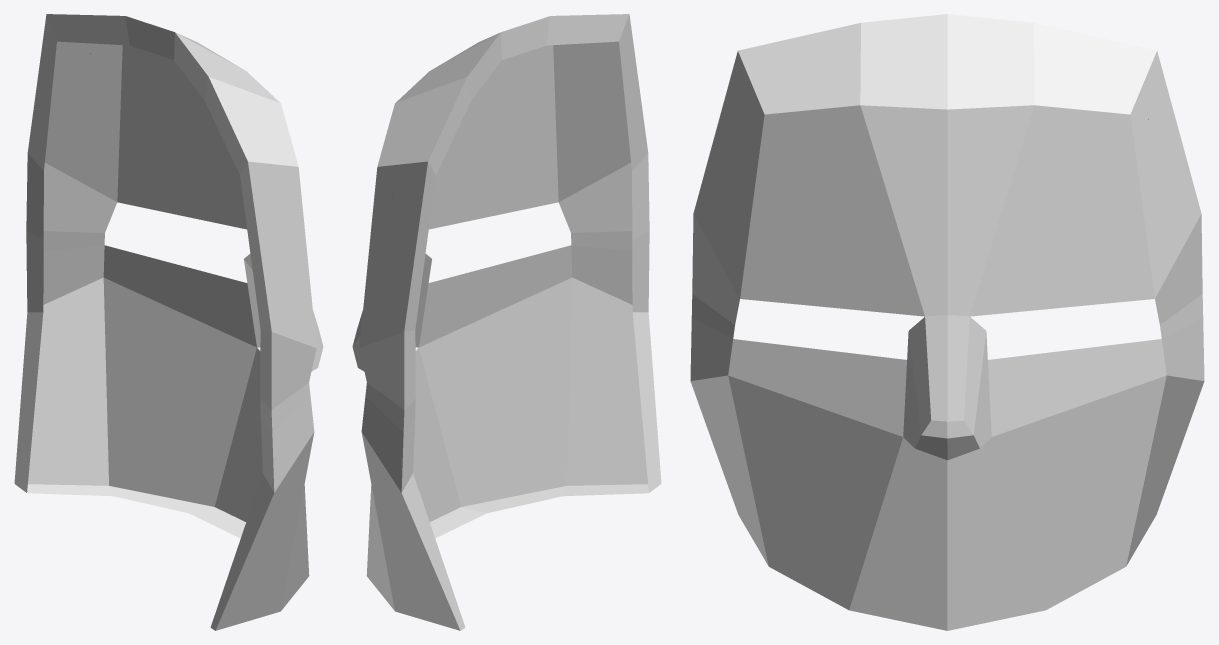
Rendered from Mask.fbx.
The picture shows the model from 3 angles, left to right: view 1: azimuth 30°, elevation 25°; view 2: azimuth 150°, elevation 25°; view 3: azimuth 270°, elevation 25°; orthographic projection. The views are drawn at different scales.
Parts seen in each view (by area): view 1: Child_Head.001; view 2: Child_Head.001; view 3: Child_Head.001.
Boxes of the visible parts, box(x1,y1,x2,y2) form: Child_Head.001: box(14, 14, 323, 630); Child_Head.001: box(352, 14, 661, 630); Child_Head.001: box(690, 14, 1204, 630).
Size of the model in its own units: 14.09 by 35.97 by 29.94.
Materials: 1 (1 with a texture image).
